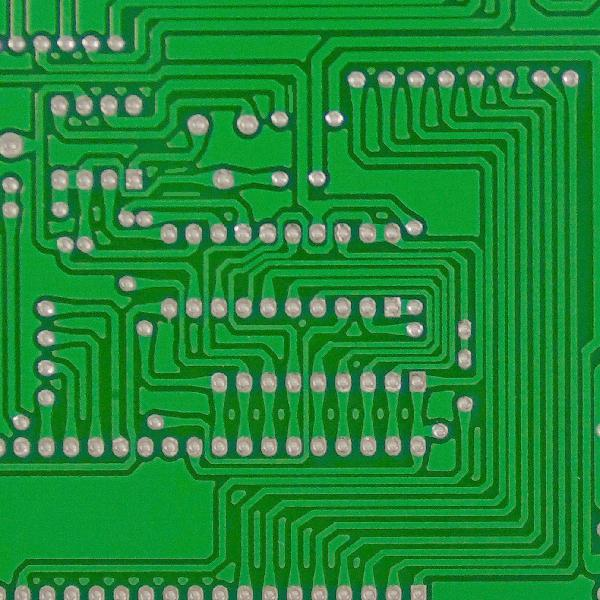spurious_copper: (283, 80, 300, 116), (160, 188, 202, 201), (162, 164, 190, 178)
